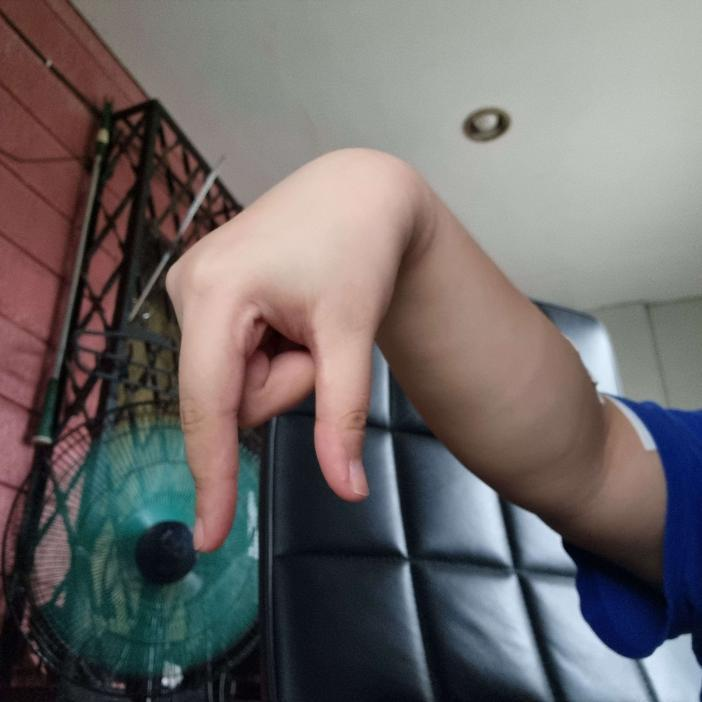q: (163, 146, 410, 554)
